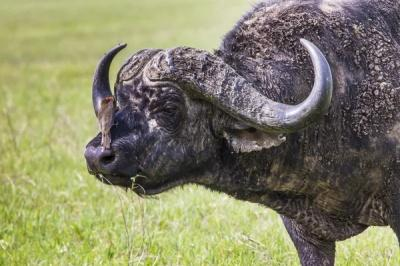buffalo: (85, 0, 399, 265)
